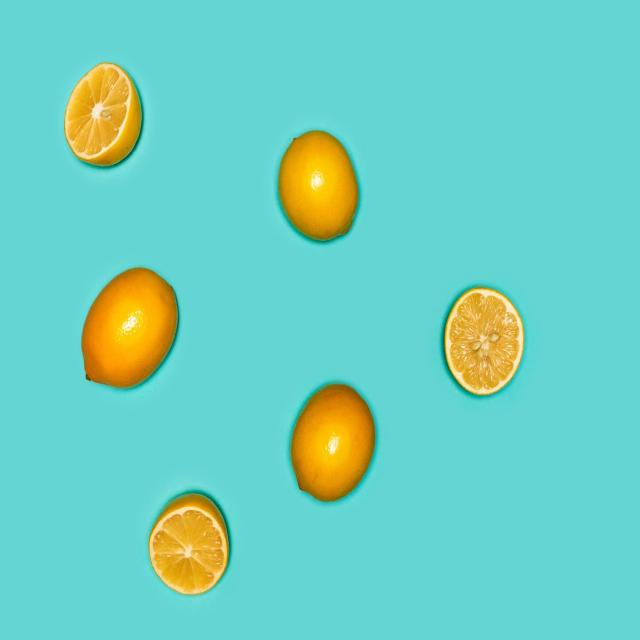lemon: (78, 262, 185, 392), (284, 378, 378, 504), (439, 279, 528, 400), (271, 128, 363, 242), (60, 61, 144, 169)
